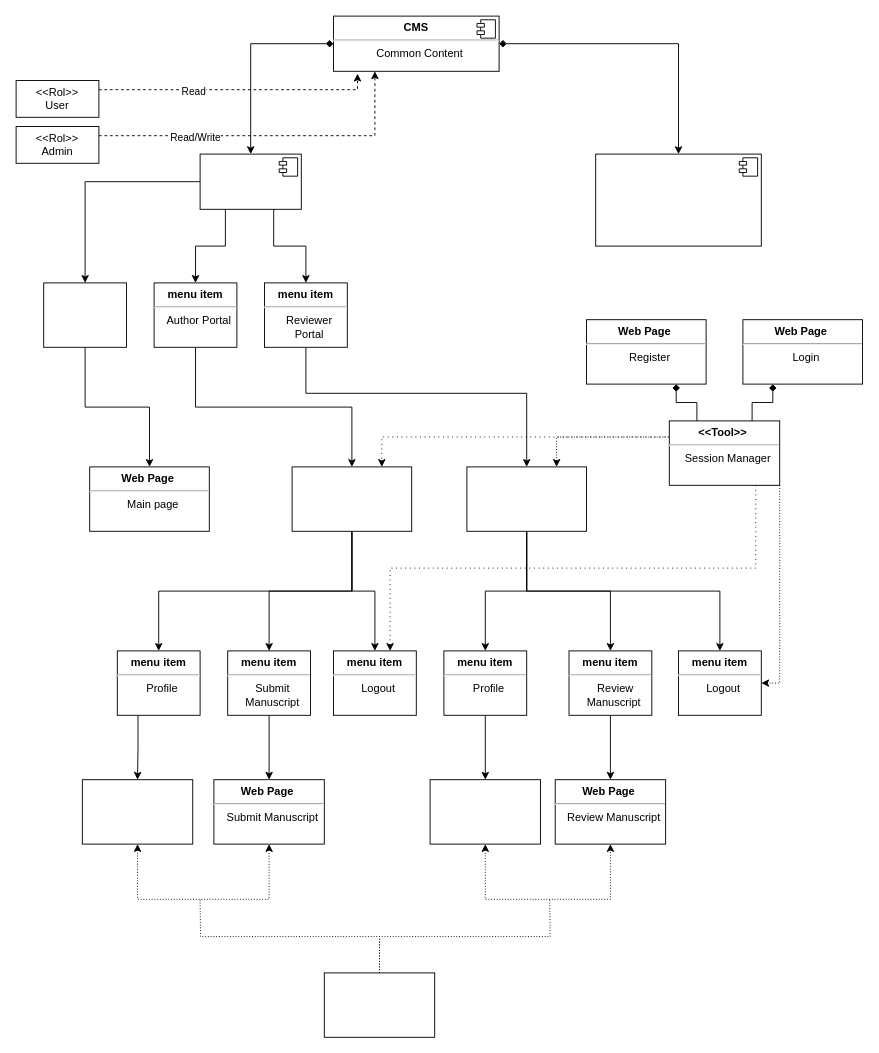
Some shapes in this 879 by 1053 pixel diagram are drawn without their labels. Each missing label, with the centre of its shape:
"<<Tool>> Database" belongs at (x=379, y=1004).
"Entry footer - University information - Contact information" belongs at (x=678, y=199).
"menu item Main page" belongs at (x=84, y=314).
"Menu Menu" belongs at (x=250, y=181).
"Web Page Author Portal" belongs at (x=351, y=498).
"Web Page Author Profile" belongs at (x=137, y=811).
"Web Page Reviewer Portal" belongs at (x=526, y=498).
"Web Page Reviewer Profile" belongs at (x=484, y=811).
